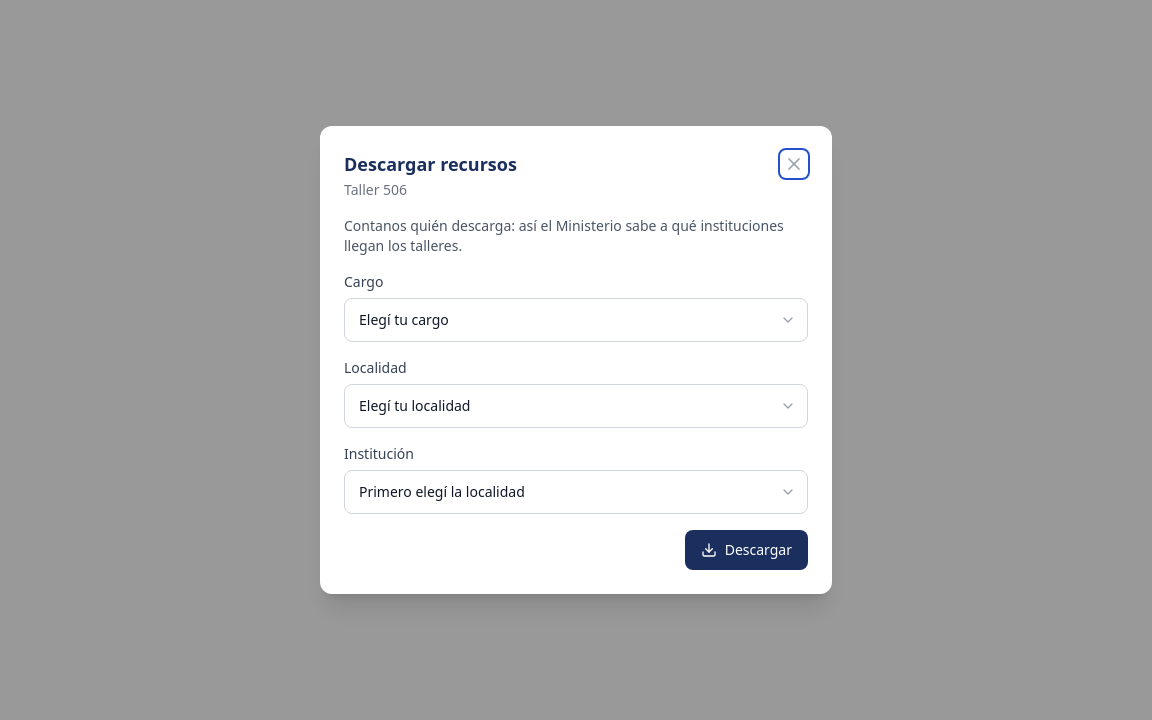
Test: DescargaModal: formulario › sin completar el formulario no envía y marca errores
The image size is (1152, 720).
Click the button "Descargar". click: click(746, 550)
box: [685,530,808,570]
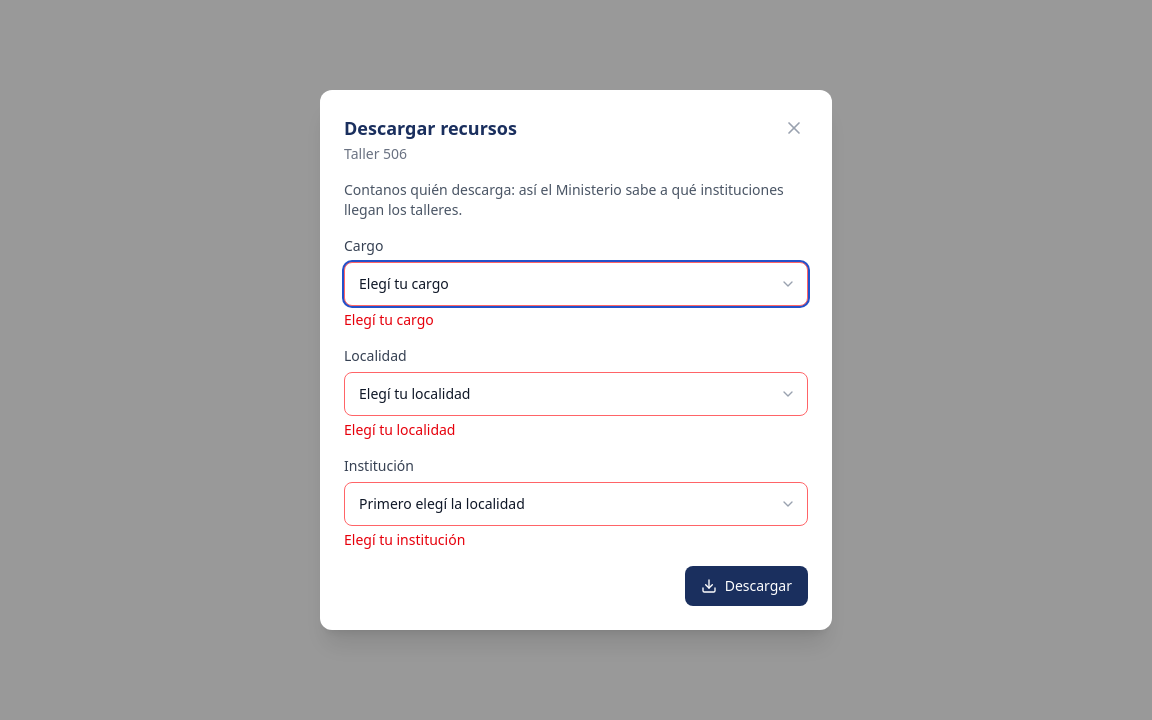
Expected: the message "Elegí tu cargo" is shown, [344,310,434,329]
